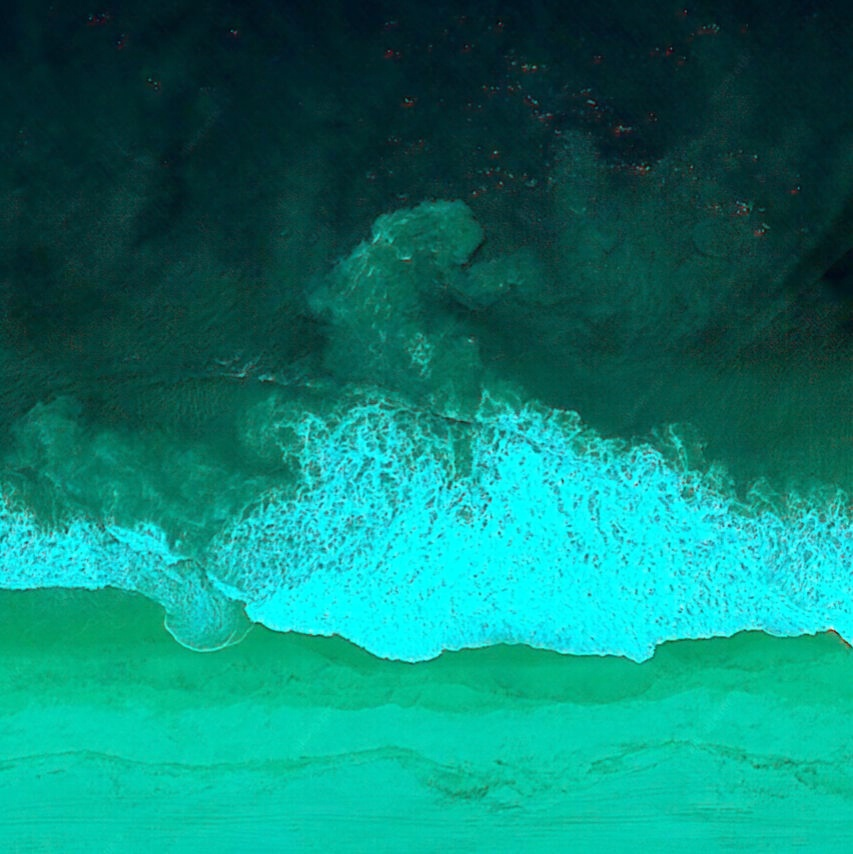rip_current: (243, 152, 560, 519)
